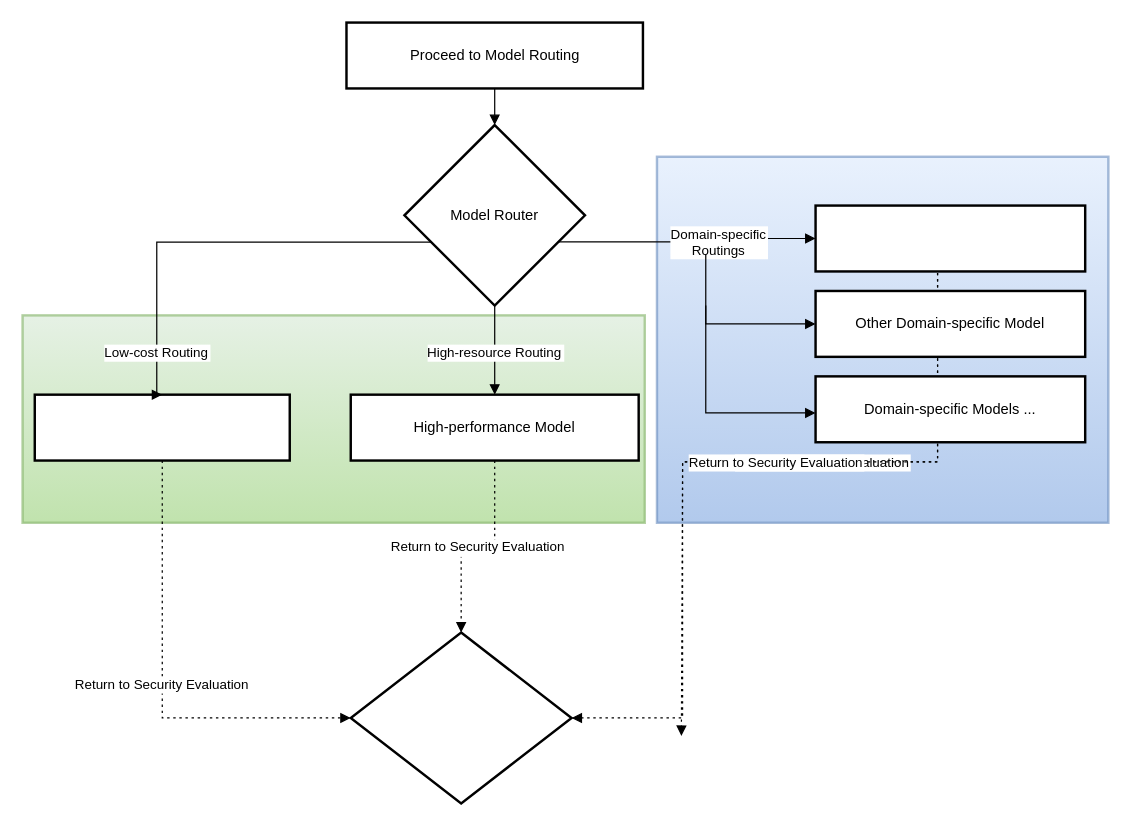
Some shapes in this 1130 by 825 pixel diagram are drawn without their labels. Here are the shapes that lost their labels. From the top down, the centre of each, then its label:
point (950, 238): Domain-specific Model
point (161, 427): Cost-effective Model
point (460, 717): Proceed to Security Guardrail Router
